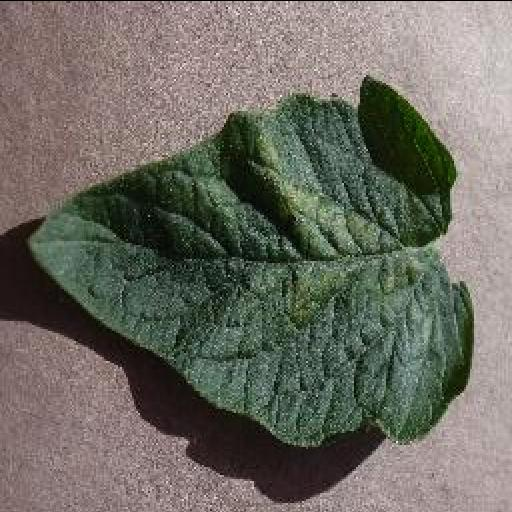disease_tomato: (28, 74, 474, 446)
